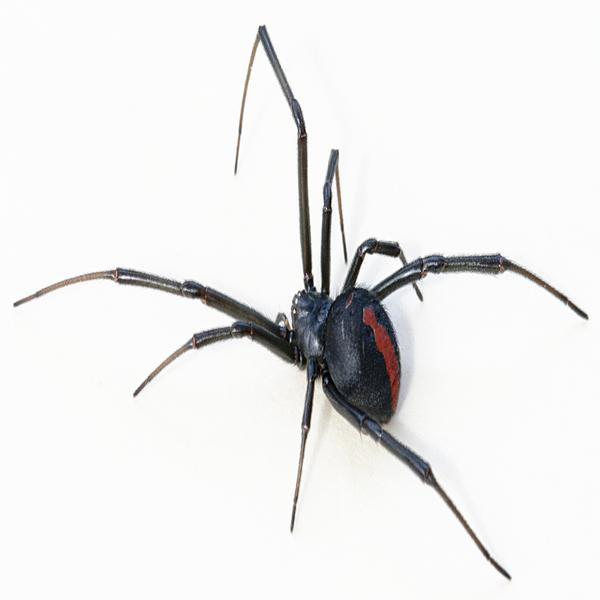Redback_Spider: (13, 27, 590, 582)
